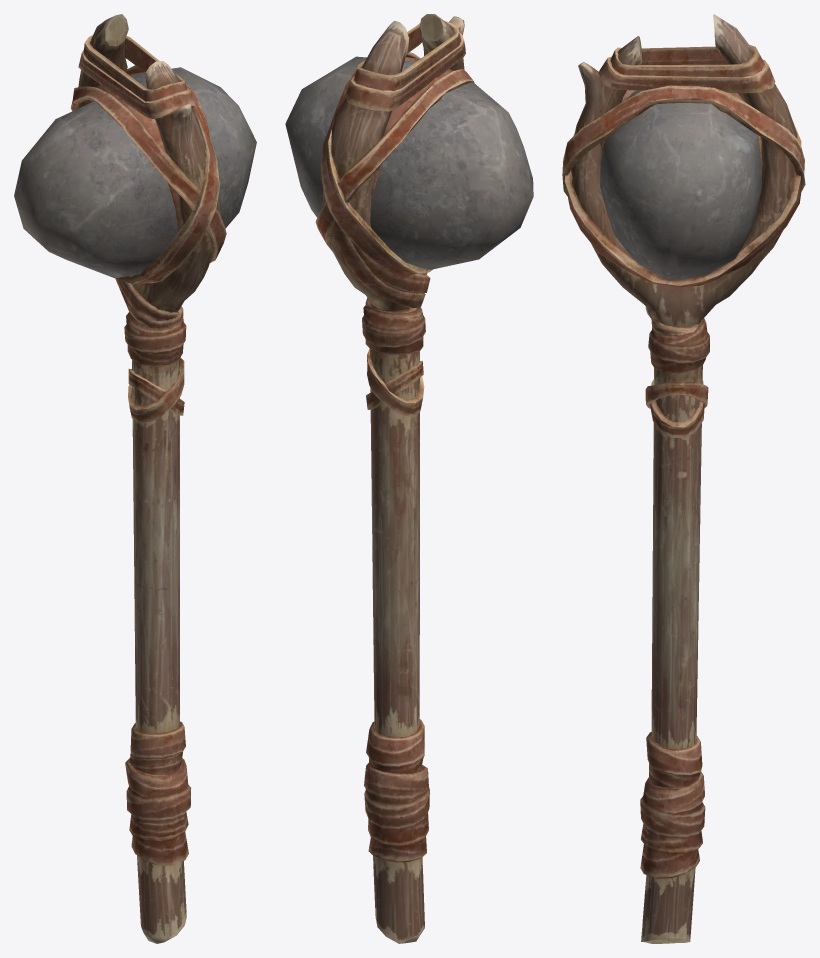
3 renders of one model, left to right at view 1: azimuth 30°, elevation 25°; view 2: azimuth 150°, elevation 25°; view 3: azimuth 270°, elevation 25°, orthographic. The views are drawn at different scales.
Parts seen in each view (by area): view 1: SM_Club_Stone_1H_01_LOD0; view 2: SM_Club_Stone_1H_01_LOD0; view 3: SM_Club_Stone_1H_01_LOD0.
Part boxes in pixels (bbox=[...]): SM_Club_Stone_1H_01_LOD0: bbox=[14, 14, 256, 943]; SM_Club_Stone_1H_01_LOD0: bbox=[285, 14, 533, 943]; SM_Club_Stone_1H_01_LOD0: bbox=[562, 14, 805, 943].
Size of the model in its own units: 0.2387 by 0.937 by 0.2231.
Materials: 1 (1 with a texture image).
